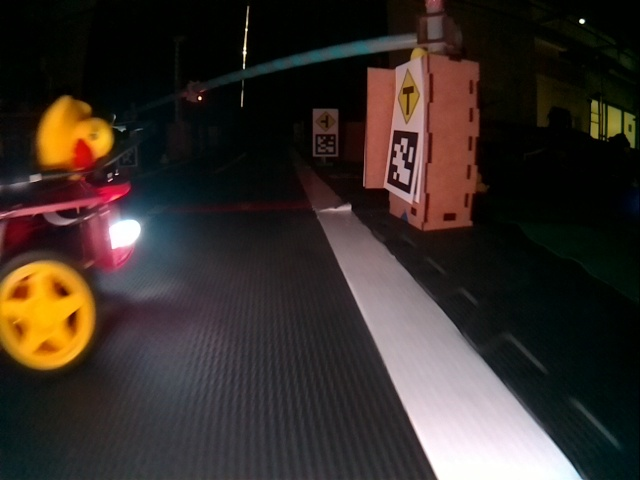Duckie: (40, 98, 110, 167)
Duckiebot: (2, 171, 137, 367)
Intersection sign: (396, 70, 418, 125), (314, 110, 336, 132)
QR code: (386, 137, 418, 194), (317, 136, 335, 155)
Traffic light: (187, 83, 202, 102)
